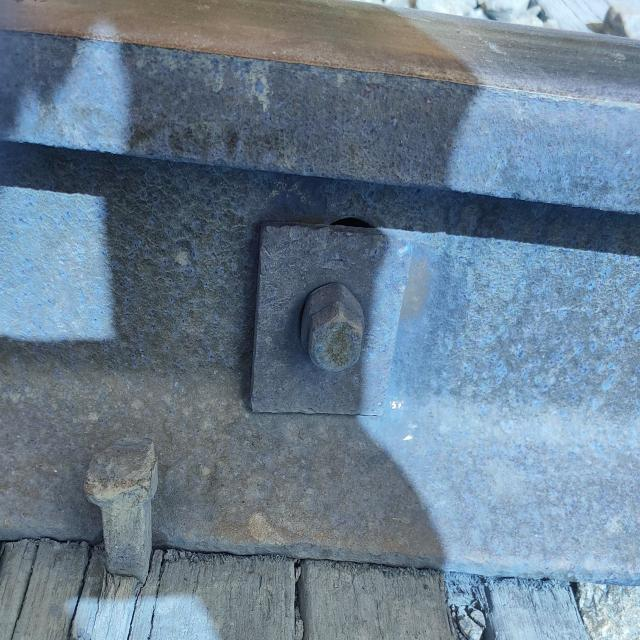Good Fasteners: (224, 166, 451, 431)
Missing Dogscrew: (12, 421, 576, 640)
